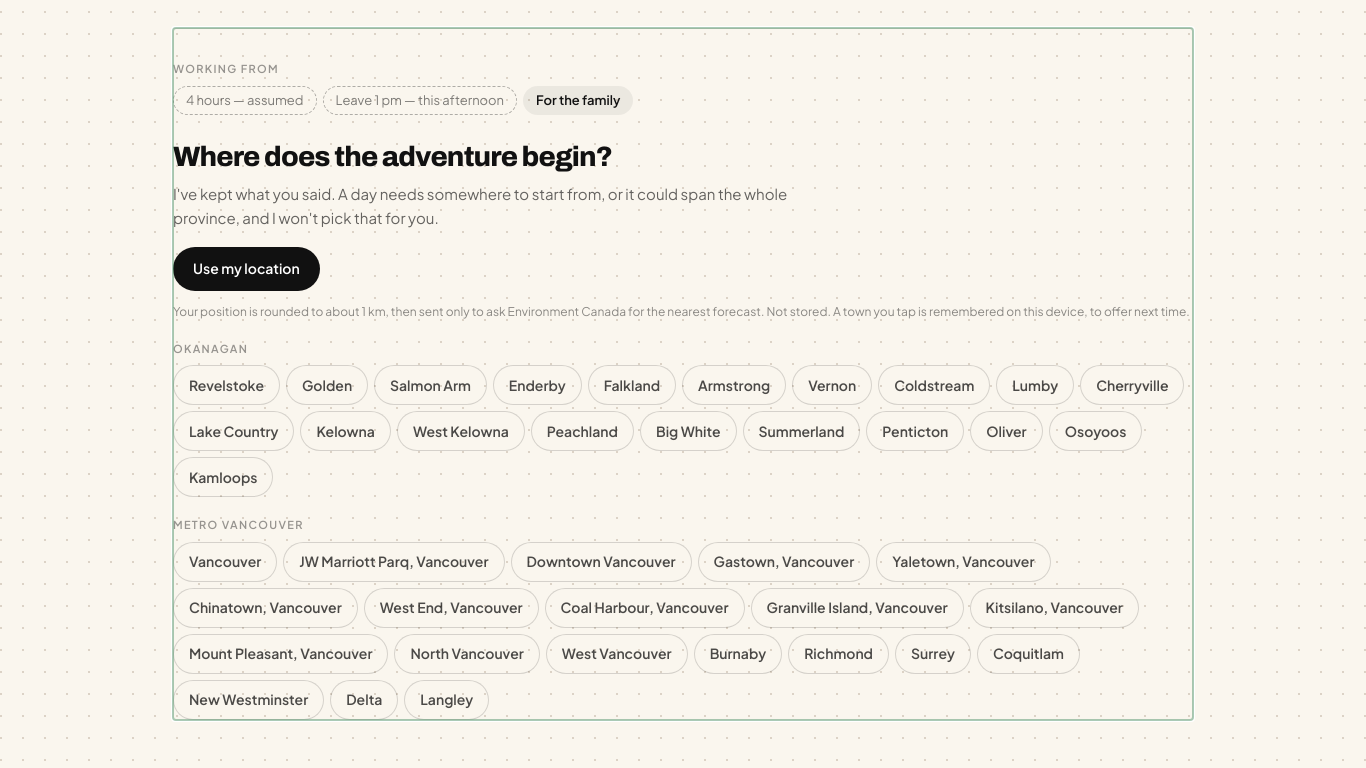
Go have a day › asks where the adventure begins instead of building a day from nowhere
(page scrolled)
Expected: the element with test id "go-where" shows "Where does the adventure begin", [173,141,612,172]
Expected: the element with test id "go-working-from" shows "family", [536,92,620,108]
Step 1. Click the button with test id "go-start-vernon" → (832, 385), box [792,365,872,405]
(page scrolled)
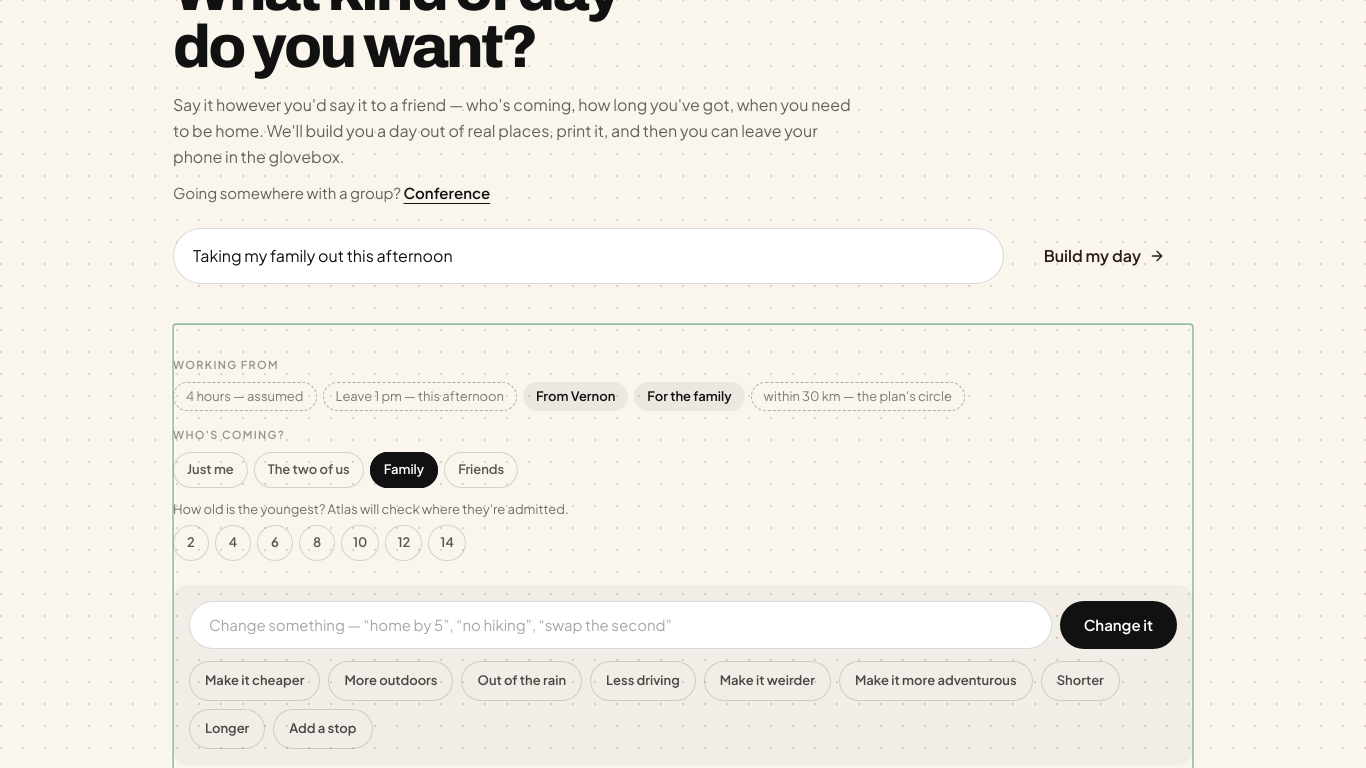
Now the element with test id "go-where" is gone
Now the element with test id "go-working-from" shows "From Vernon", box [536,388,615,404]
